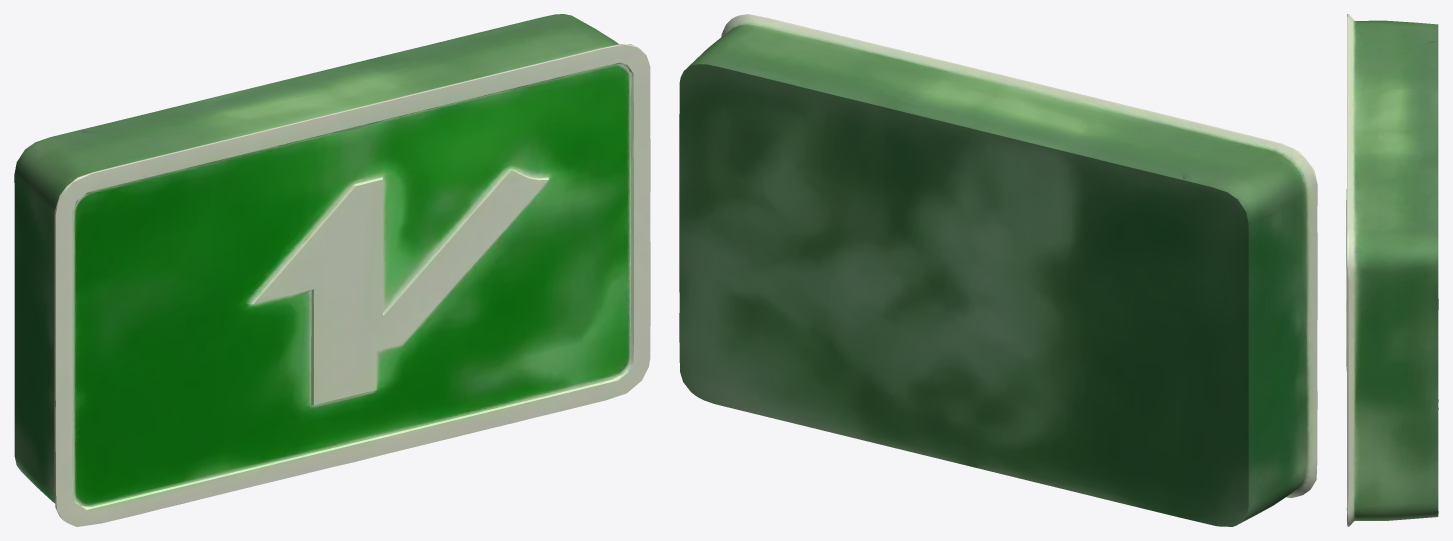
Rendered from exitSignV2.glb.
3 renders of one model, left to right at view 1: azimuth 30°, elevation 25°; view 2: azimuth 150°, elevation 25°; view 3: azimuth 270°, elevation 25°, orthographic. The views are drawn at different scales.
Visible parts, largest first — view 1: model; view 2: model; view 3: model.
Boxes of the visible parts, x1,y1,x2,y2 form: model: (14,14,650,526); model: (679,14,1317,526); model: (1346,14,1438,526).
Bounding box in the file's own units: 1.9 × 1.07 × 0.3054.
1 material, 1 textured.
